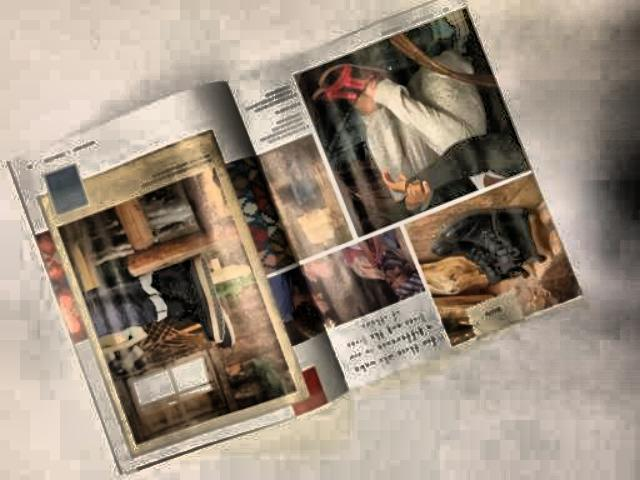Paper: (0, 0, 589, 476)
